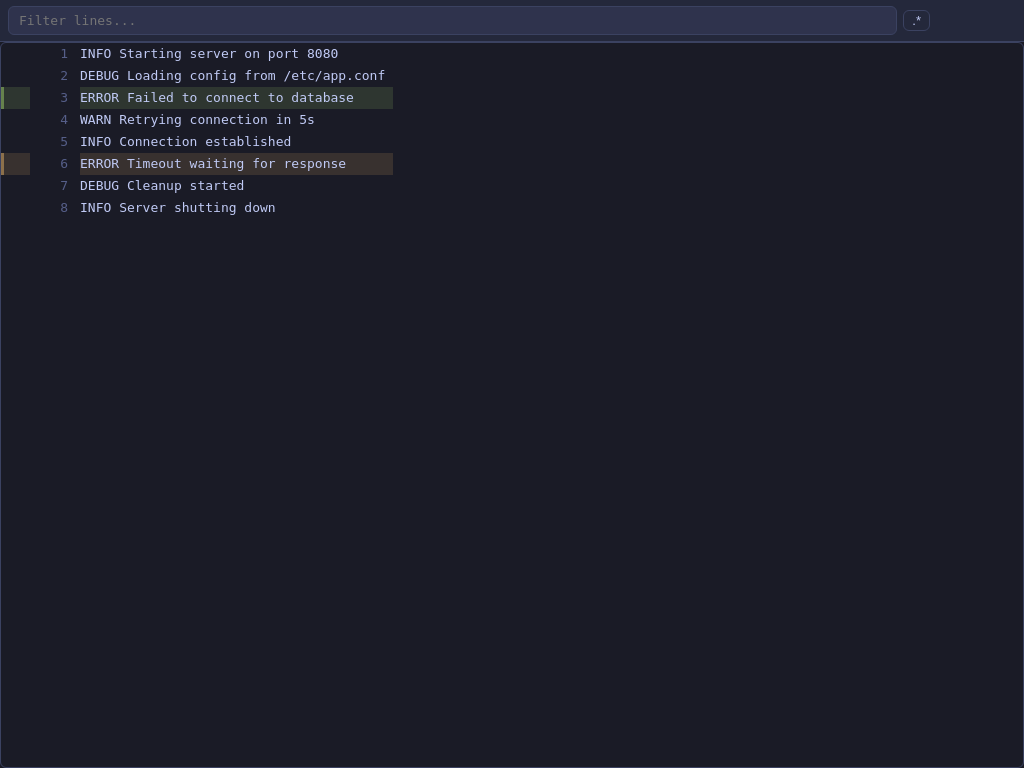
Test: LogViewer Context Expansion › collapse removes context lines
Step 1. Type "ERROR" into the field with placeholder "Filter lines..." → (453, 20), box [8,6,897,35]
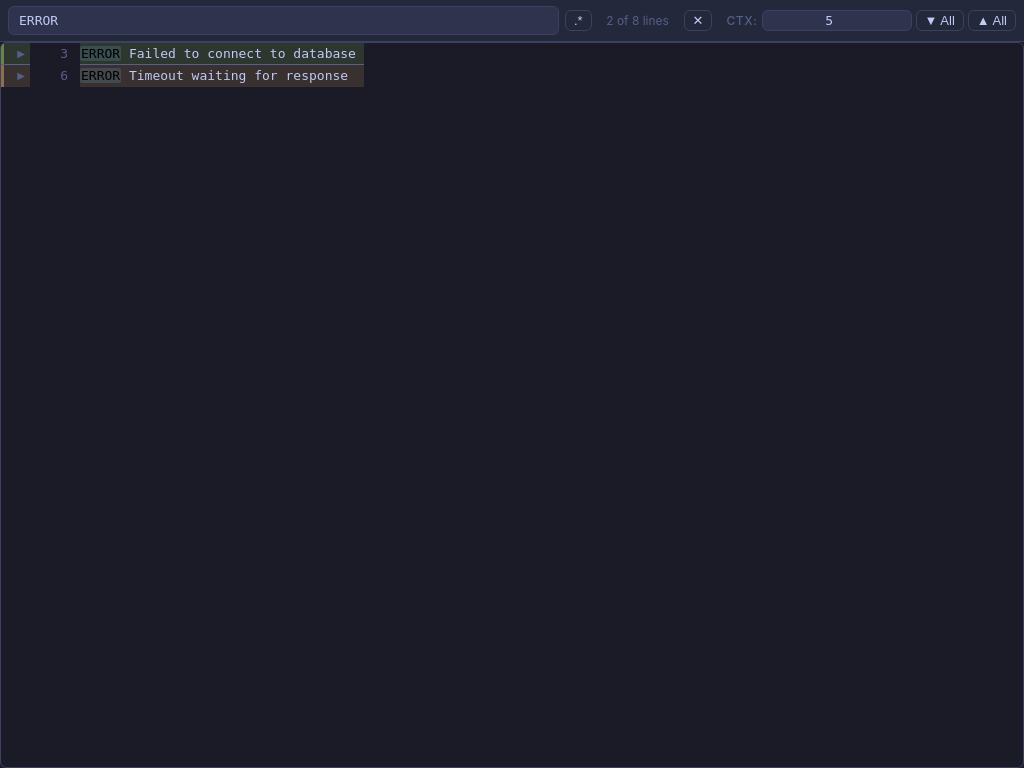
Now the number of buttons with class "log-line" is 2, box [1,43,364,65]; [1,65,364,87]
Step 2. Click the 1st button with class "expand-toggle" → (21, 54), box [12,43,30,65]
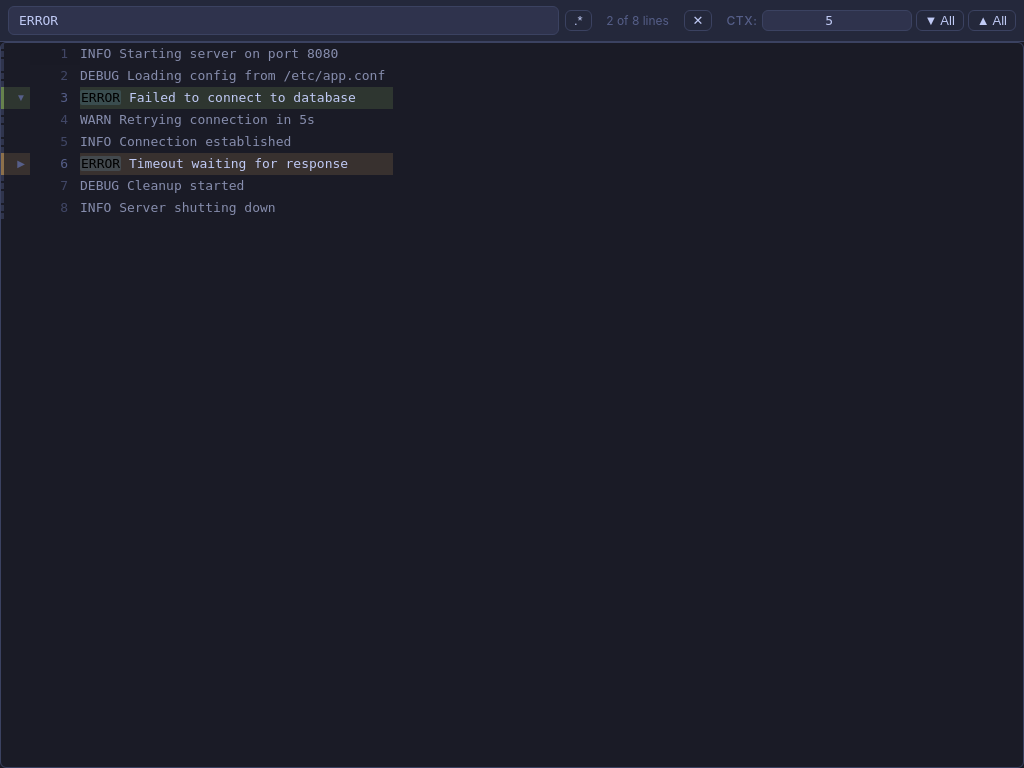
Step 3. Click the button with class "expand-toggle" showing "▼" → (21, 98), box [12,87,30,109]
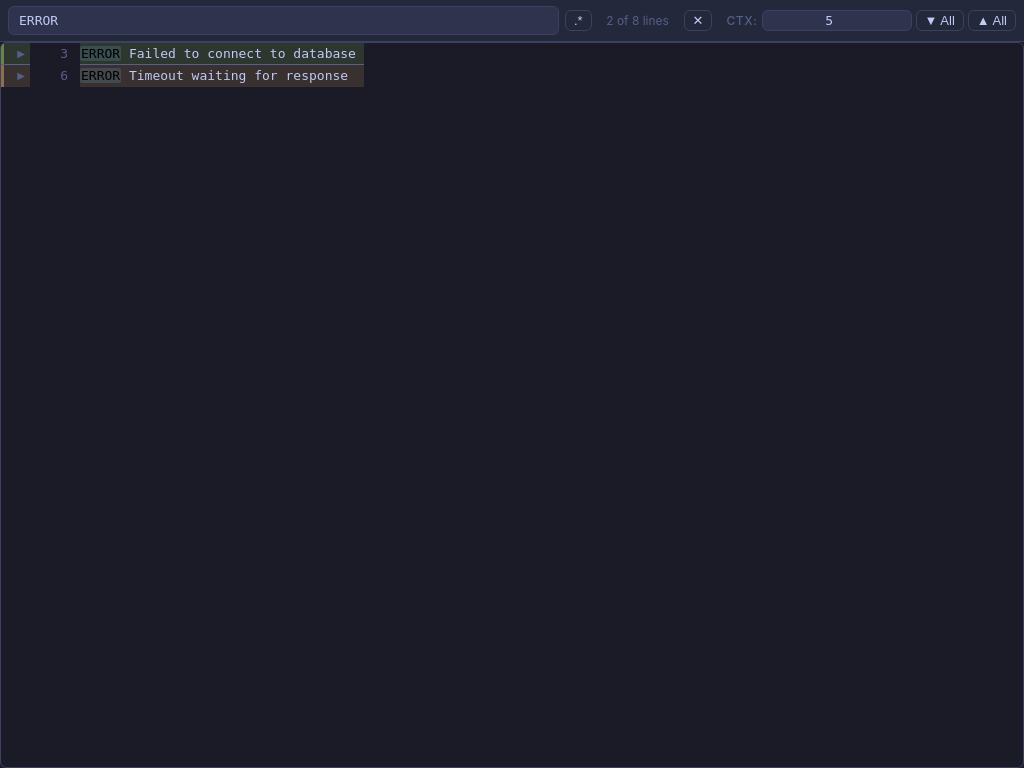
Now the number of buttons with class "log-line" is 2, box [1,43,364,65]; [1,65,364,87]
